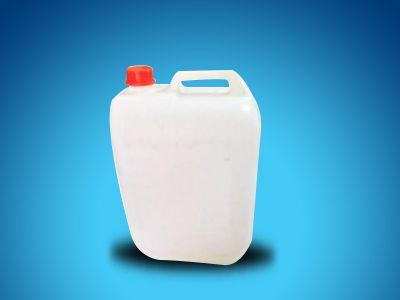HDPE: (109, 69, 263, 267), (125, 64, 156, 86)
